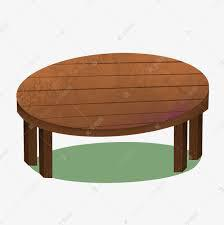desk: (14, 34, 213, 189)
